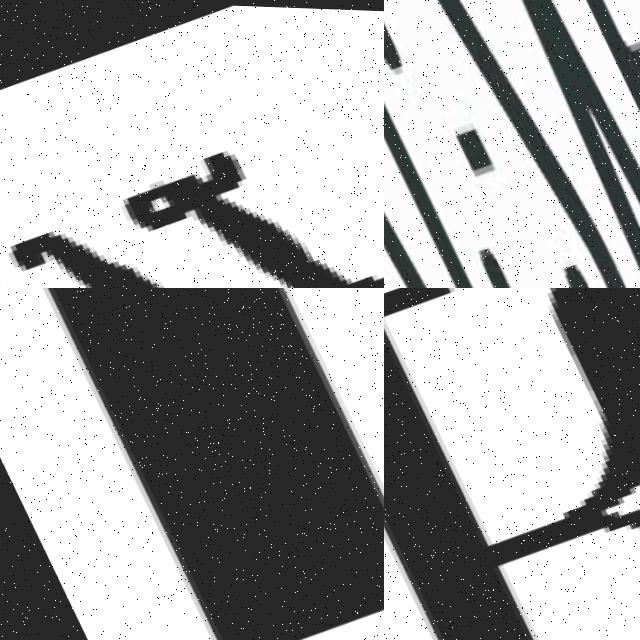2: (384, 0, 640, 288)
C: (384, 0, 571, 288)
E: (495, 0, 640, 288)
H: (68, 83, 384, 288)
L: (0, 288, 384, 640)
M: (384, 0, 436, 288)
R: (384, 288, 640, 640)
V: (425, 0, 640, 288)
Z: (384, 0, 498, 288)
